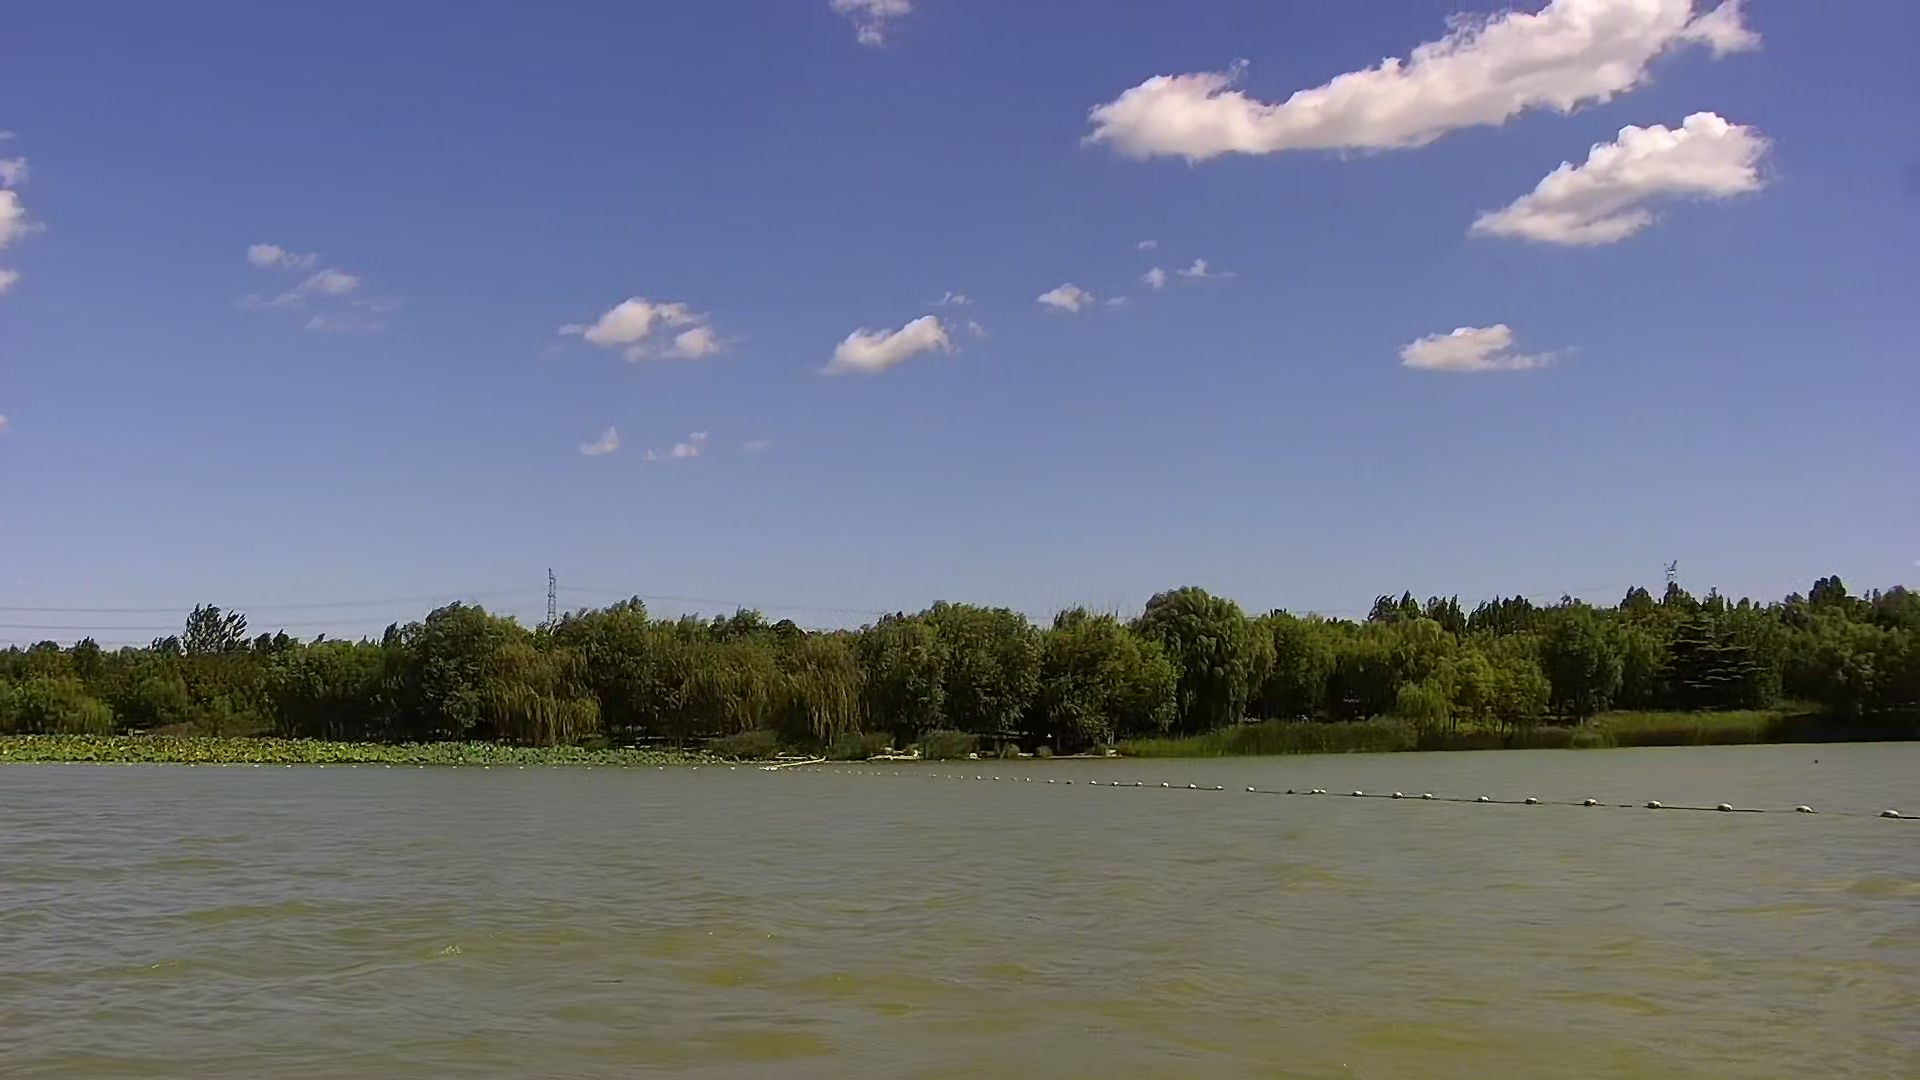ball: (1787, 789, 1829, 832), (1873, 790, 1911, 837), (1635, 786, 1665, 825), (1717, 796, 1749, 828), (1415, 785, 1445, 810), (1578, 789, 1607, 814), (1472, 790, 1497, 816), (1523, 786, 1545, 812)
